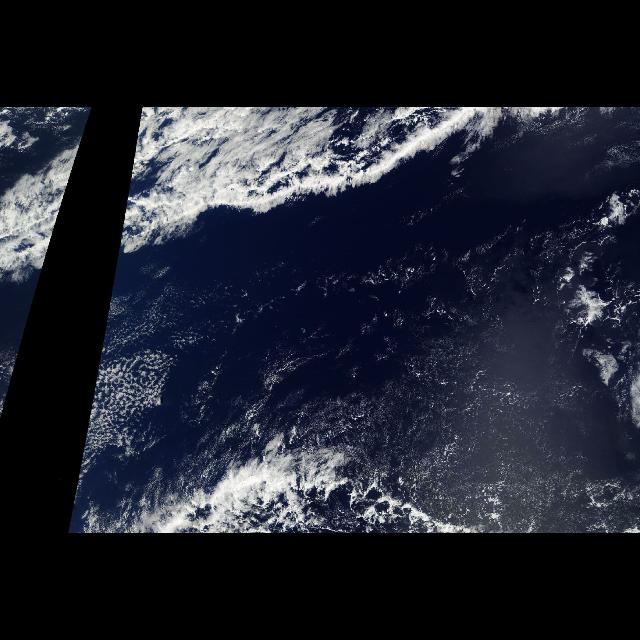Gravel: (86, 316, 228, 478)
Sugar: (371, 241, 624, 533)
